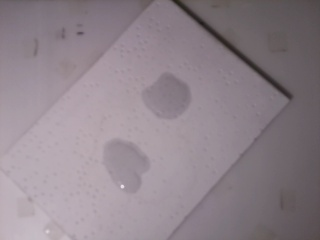Water_detected: (150, 66, 196, 113), (101, 148, 143, 189)
